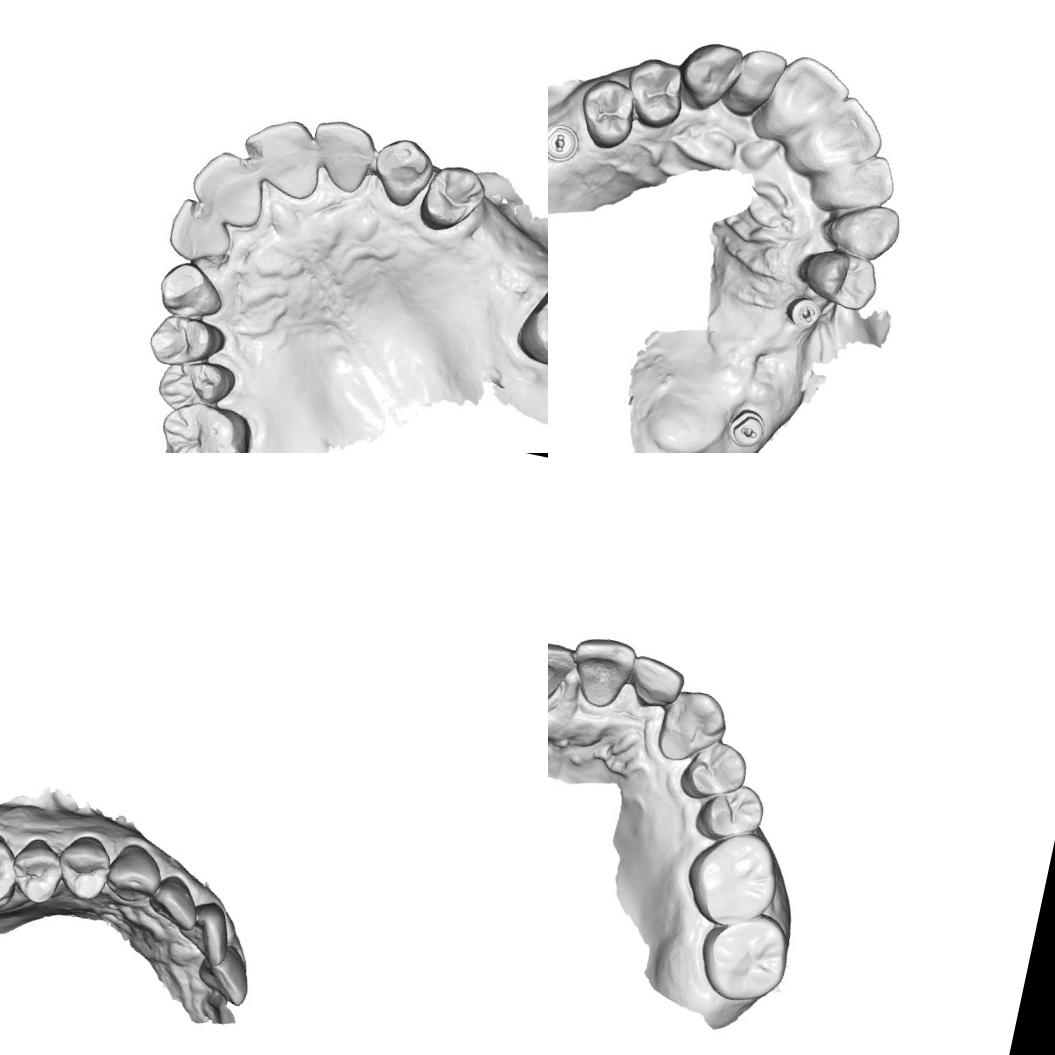canine: (649, 682, 732, 770), (672, 35, 746, 118), (824, 195, 903, 266), (368, 132, 435, 212), (153, 260, 231, 323), (100, 838, 170, 908)
implant_minus: (722, 403, 773, 453), (548, 117, 583, 166)
implant_plus: (780, 290, 827, 335)
incisor: (236, 113, 326, 201), (766, 48, 856, 136), (805, 89, 891, 178), (562, 630, 639, 715), (186, 152, 270, 226), (820, 144, 900, 220), (310, 109, 384, 189), (620, 651, 690, 722), (162, 200, 236, 266), (171, 894, 237, 968), (192, 939, 256, 1010), (728, 42, 792, 112), (143, 870, 205, 934), (548, 631, 577, 715)
molar: (674, 820, 788, 937), (690, 900, 798, 1012), (147, 389, 259, 453), (510, 275, 548, 383), (0, 825, 25, 919)
premolar: (796, 242, 884, 316), (412, 159, 492, 240), (674, 732, 754, 811), (618, 50, 691, 134), (692, 775, 771, 851), (572, 71, 643, 155), (151, 352, 238, 419), (50, 830, 116, 904), (5, 834, 68, 908), (148, 312, 225, 372)
